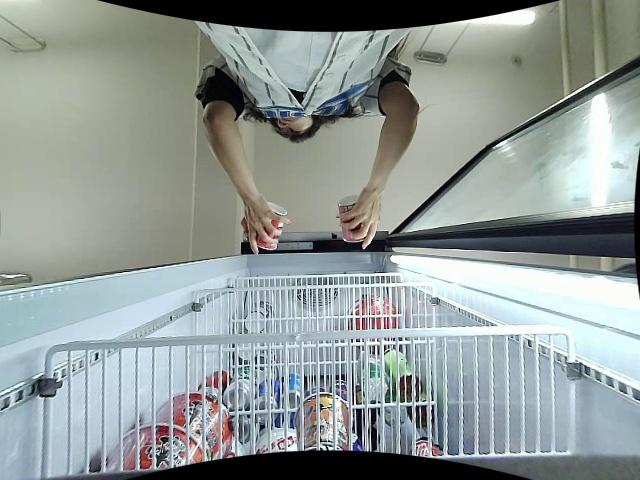00_hand: (336, 188, 381, 249), (243, 201, 291, 255)
02_shinRamen_S: (241, 201, 287, 250), (338, 196, 368, 243)
